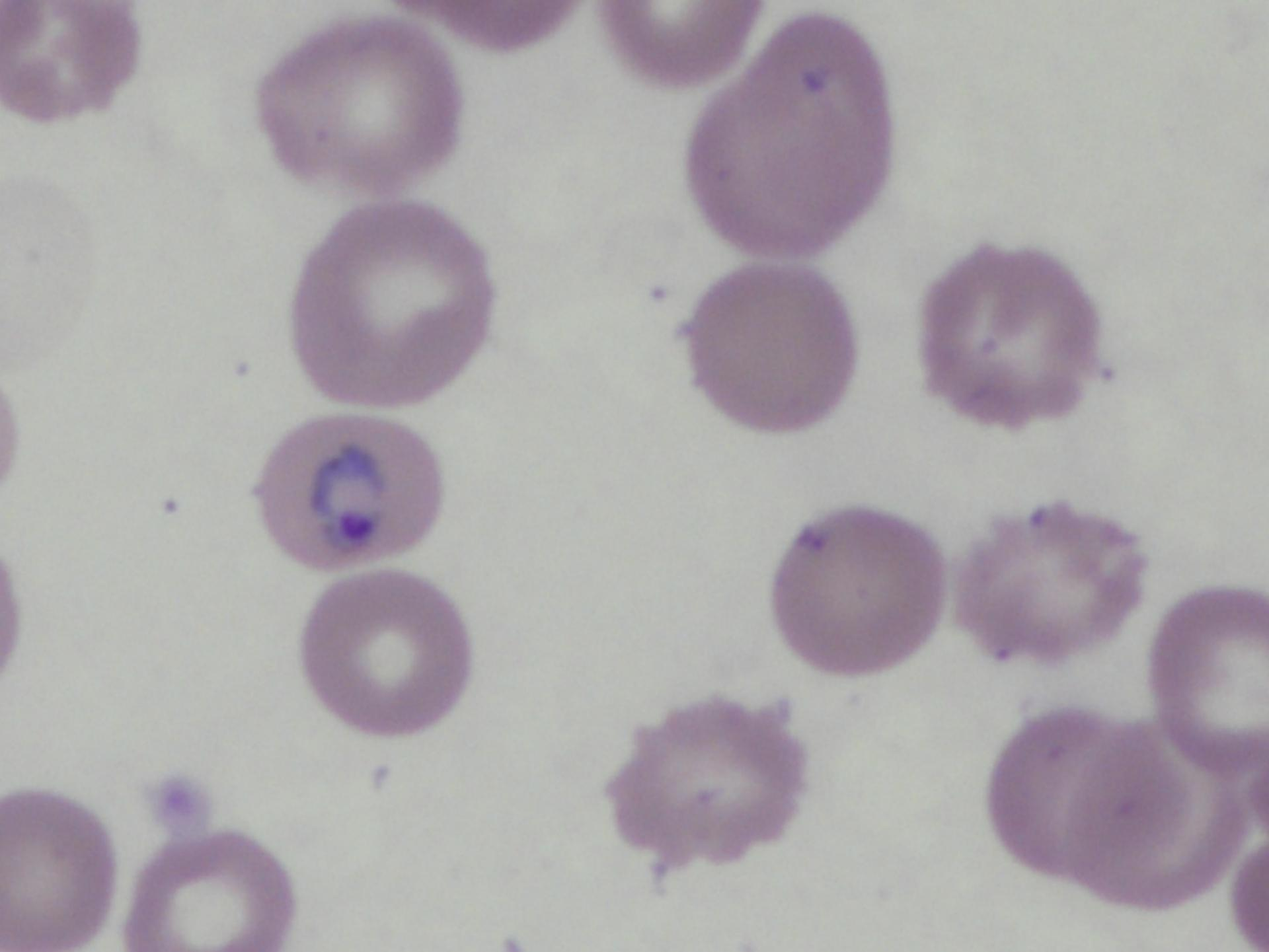Infected: (257, 411, 445, 567)
Uninfected: (683, 16, 897, 257), (293, 199, 492, 403), (260, 14, 467, 201), (1060, 723, 1254, 911), (921, 241, 1103, 425), (606, 703, 805, 870), (950, 501, 1144, 666), (987, 708, 1174, 865), (687, 263, 856, 433), (300, 571, 473, 736), (778, 509, 943, 674), (1150, 580, 1269, 774), (0, 788, 119, 952), (128, 837, 292, 952), (0, 0, 140, 128)
